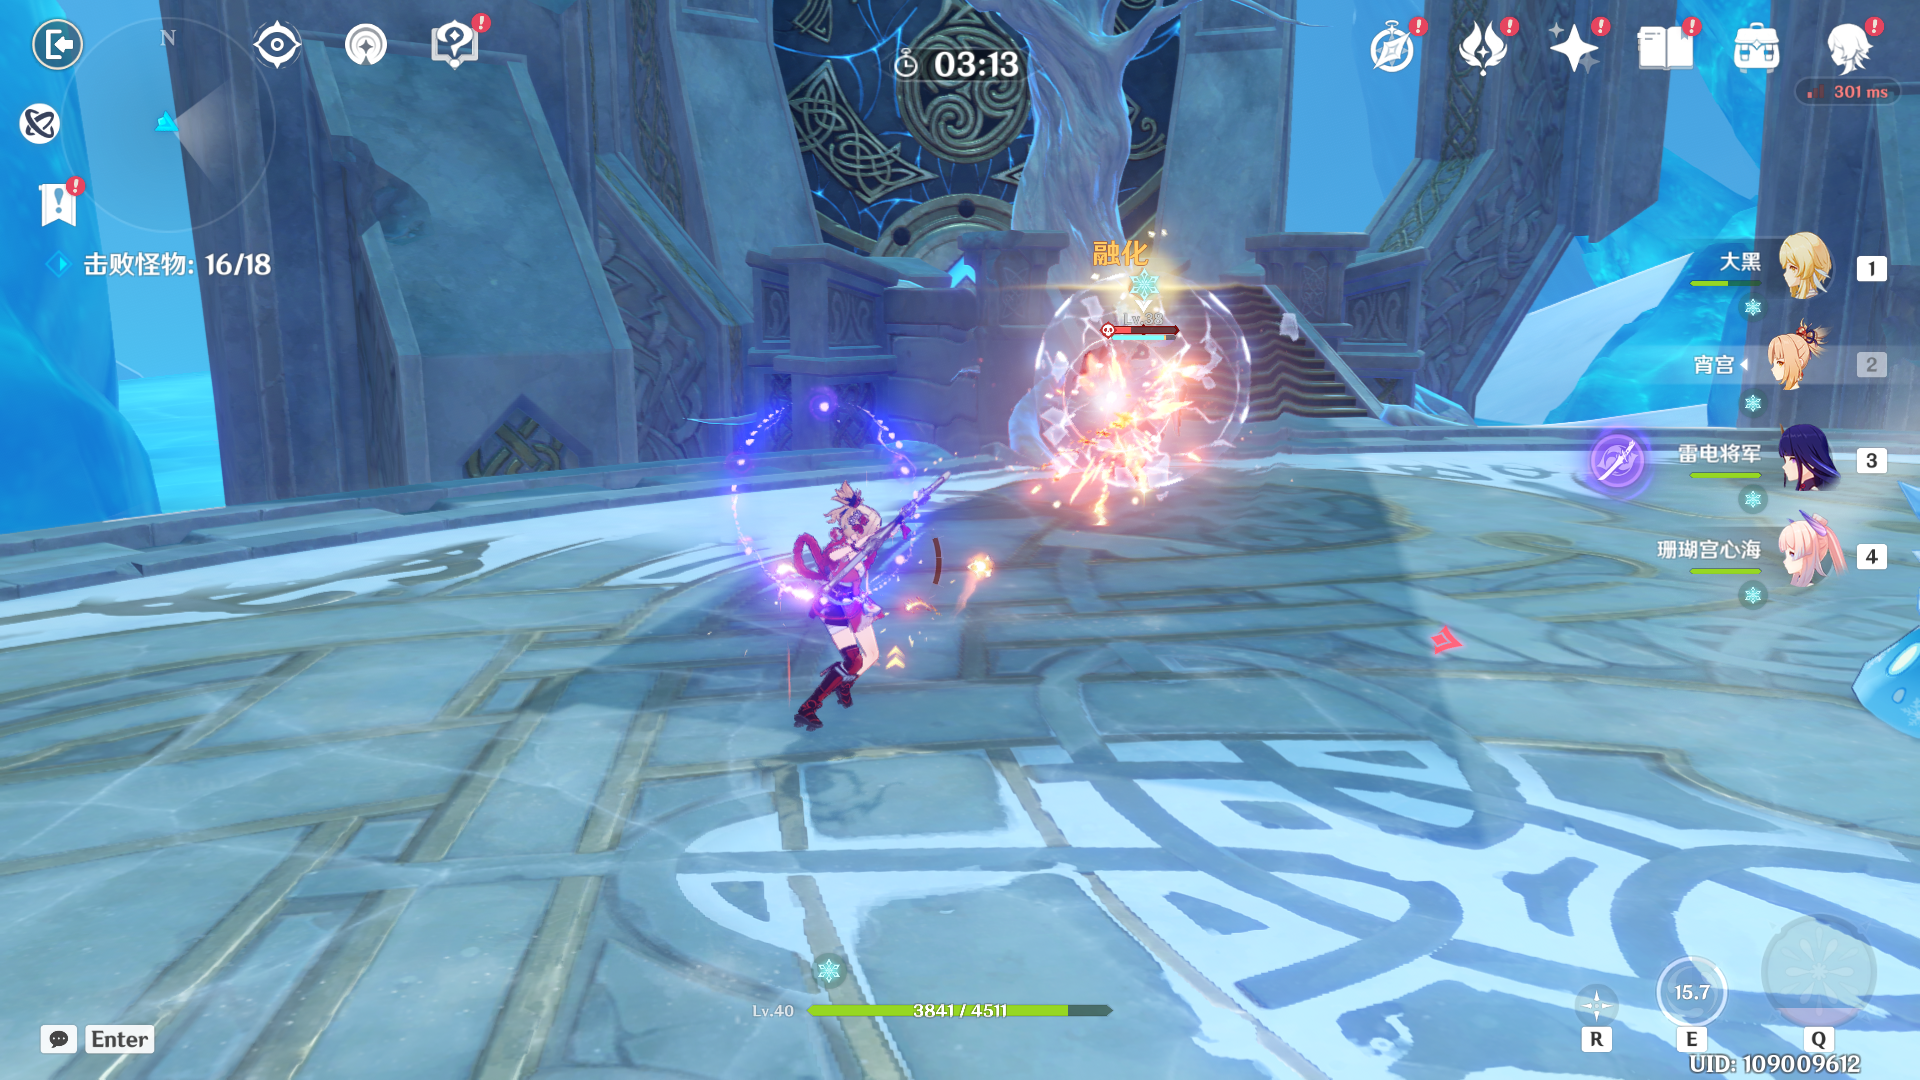caster: (1044, 305, 1250, 477)
character: (742, 471, 957, 738)
